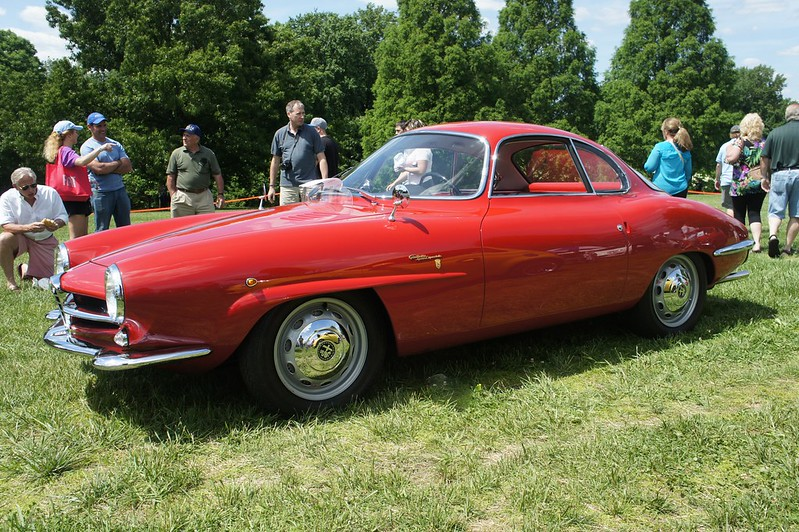car: (47, 123, 755, 418)
